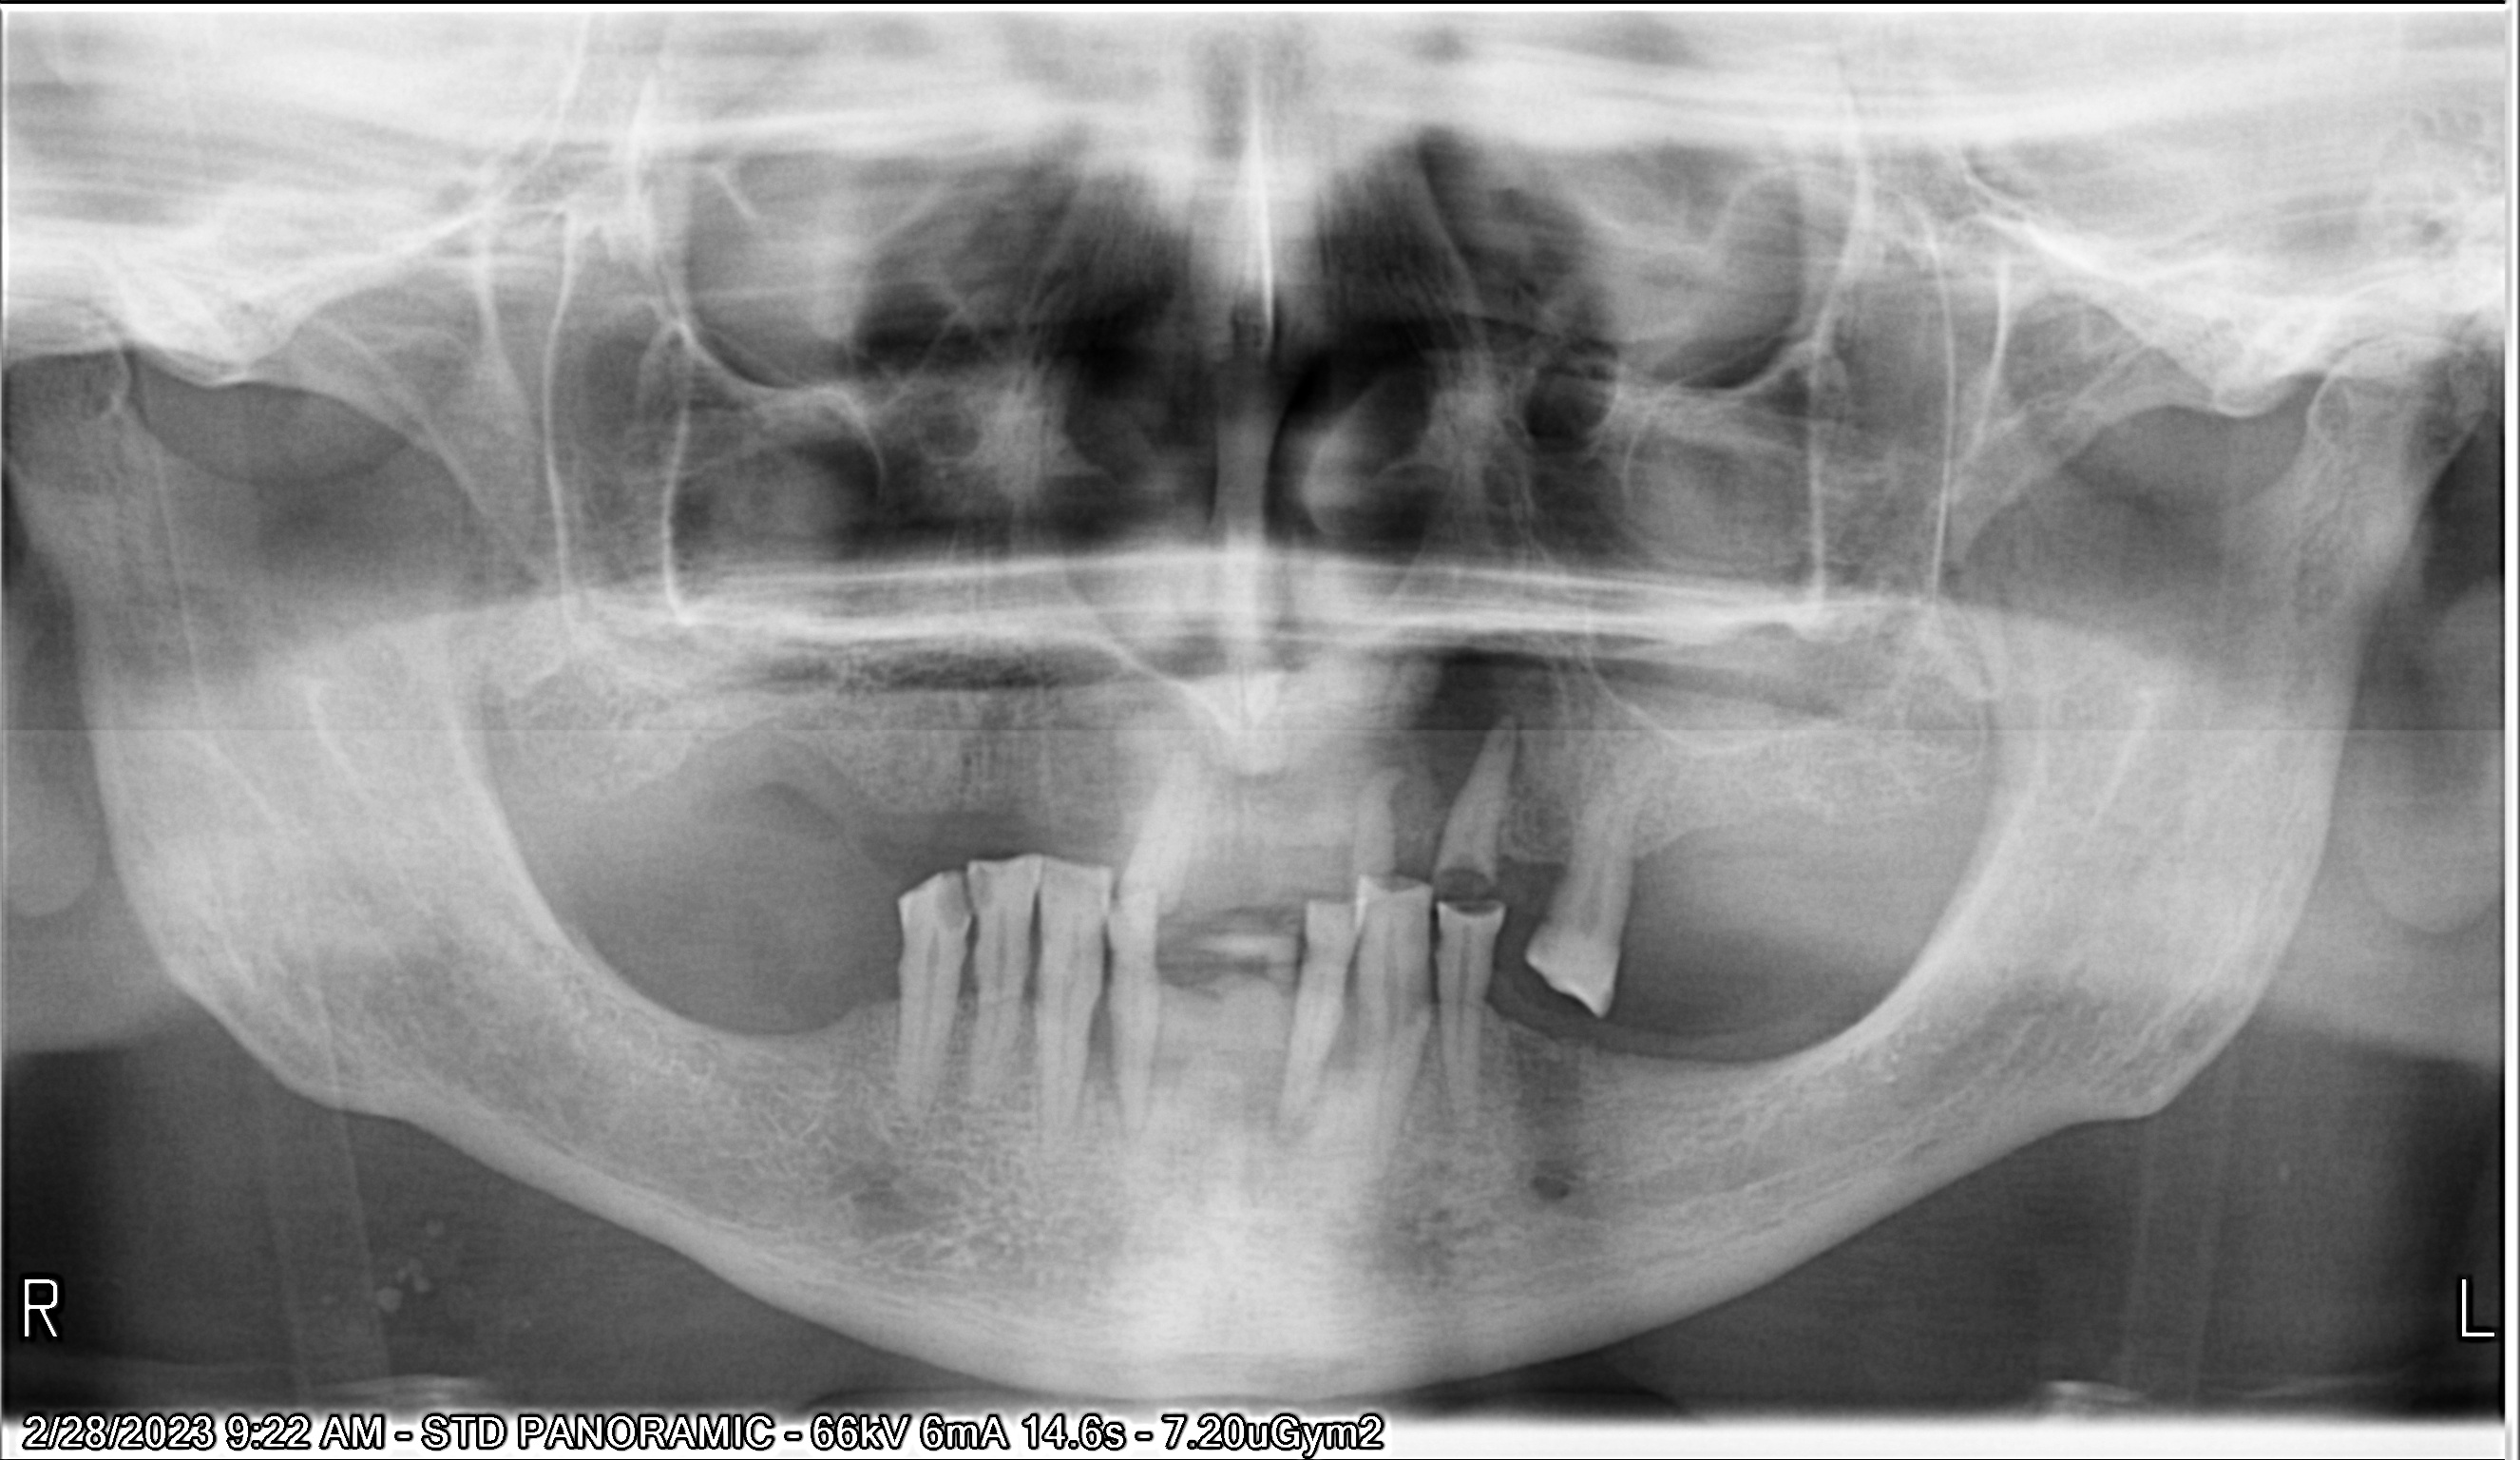BON: (1600, 810, 1681, 935), (1070, 952, 1131, 1102), (1520, 841, 1589, 928), (837, 968, 919, 1034), (933, 951, 997, 1031), (1252, 935, 1313, 1010)
CAR: (914, 857, 974, 937), (953, 857, 1000, 925)
ROT: (1103, 728, 1224, 916), (1419, 695, 1523, 914), (1327, 737, 1417, 899)
